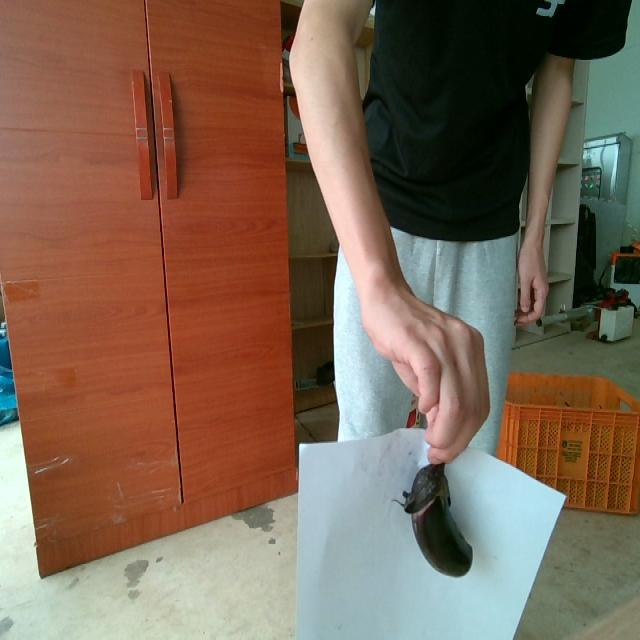Egg plant: (399, 464, 472, 576)
